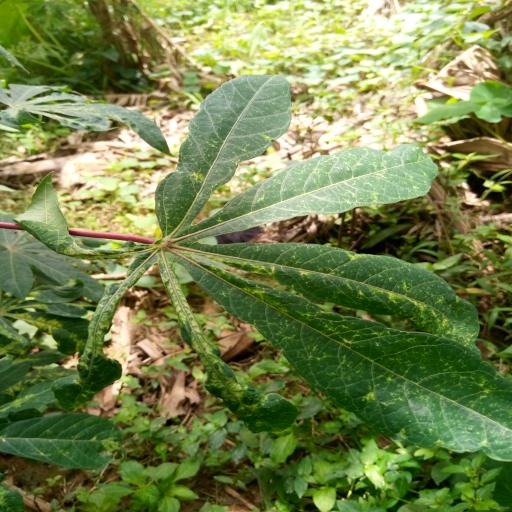Cassava_Mosaic: (68, 71, 512, 477)
